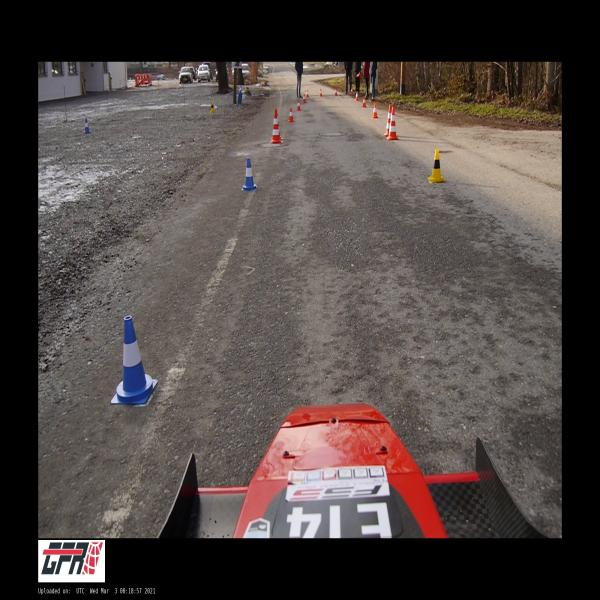blue_cone: (111, 316, 158, 404), (242, 158, 256, 191), (84, 119, 90, 133), (239, 86, 242, 93)
large_orange_cone: (270, 110, 282, 143), (387, 107, 398, 140), (385, 104, 392, 135)
orange_cone: (288, 108, 294, 121), (373, 103, 378, 118), (362, 96, 366, 107), (297, 100, 301, 110), (355, 91, 359, 101), (303, 93, 306, 103), (350, 87, 353, 95), (306, 90, 308, 97), (320, 89, 322, 96), (335, 88, 337, 95)
yellow_cone: (428, 149, 445, 182), (210, 101, 215, 112)
